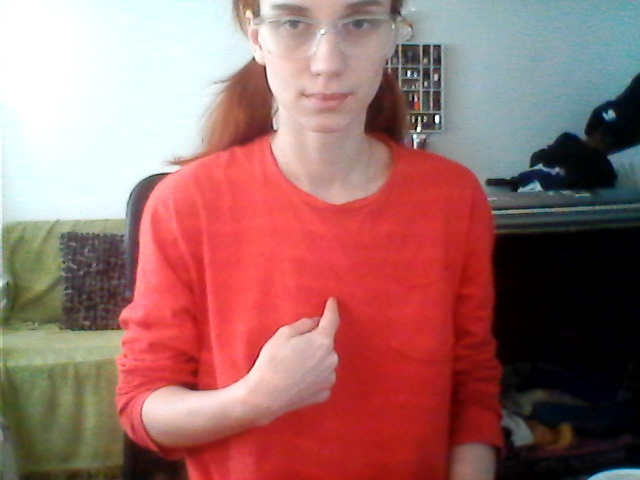ja: (243, 292, 382, 428)
